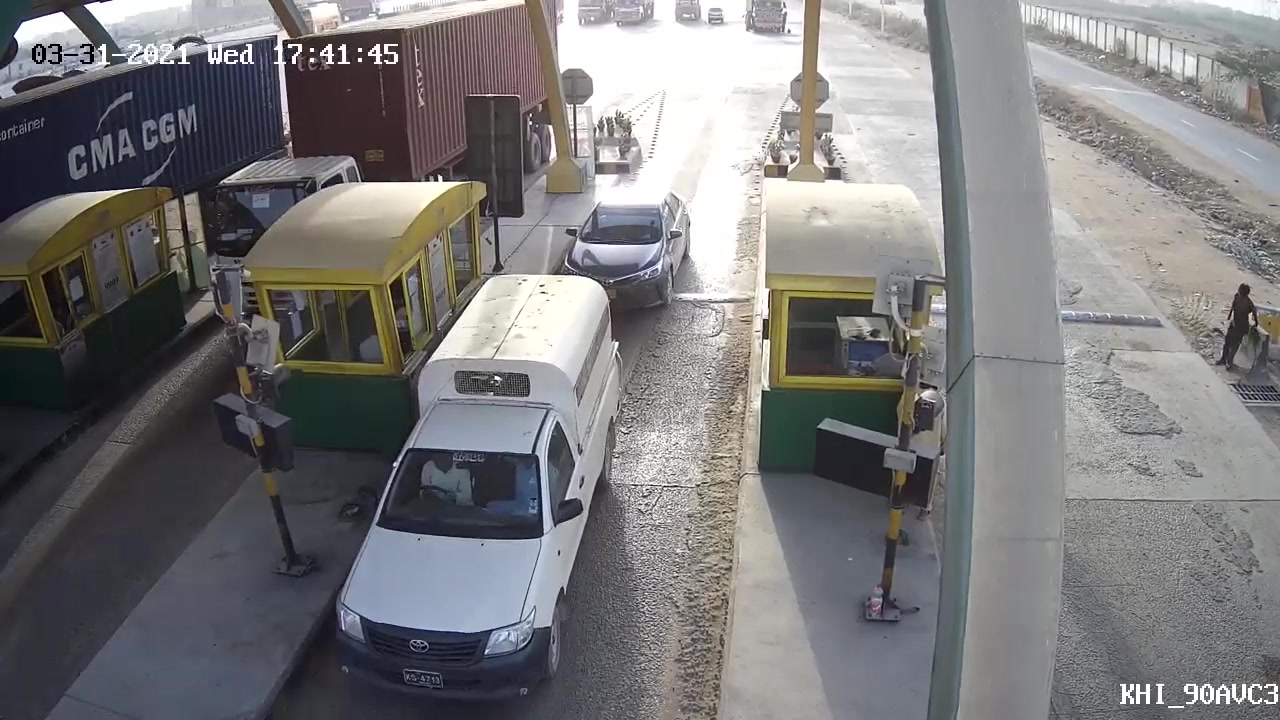F1: (318, 273, 624, 704), (555, 183, 693, 311)
